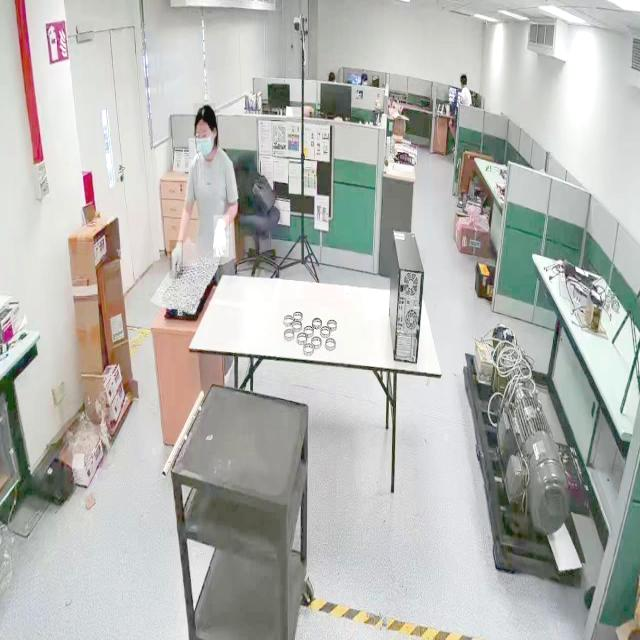face_mask: (194, 131, 216, 159)
hand_glove: (213, 215, 230, 258), (170, 240, 183, 279)
head_nohelmet: (194, 103, 216, 126), (459, 73, 467, 79)
person: (170, 105, 240, 312)
